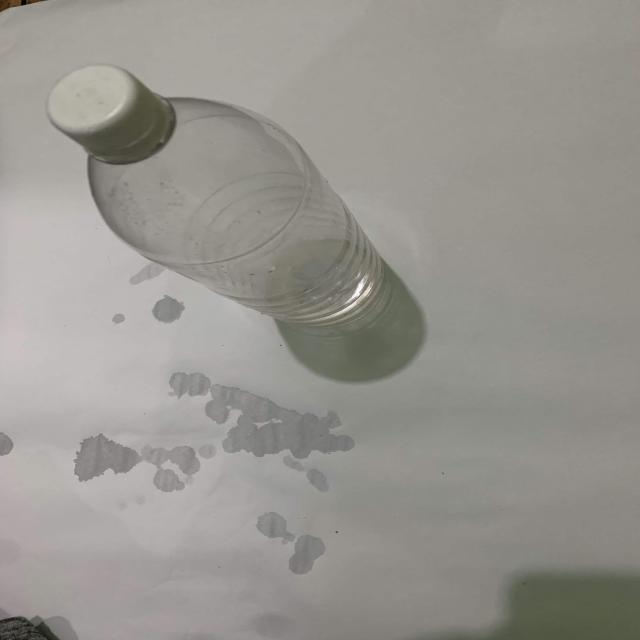bottle: (39, 63, 423, 334)
